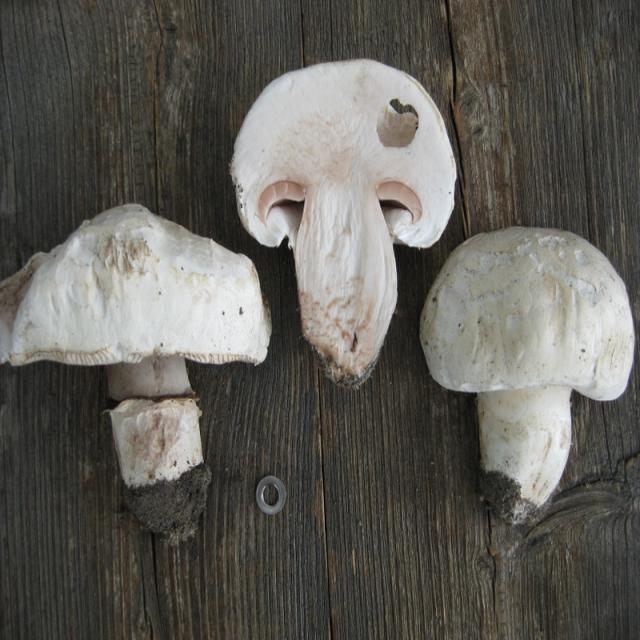Agaricus bisporus: (5, 208, 269, 540), (230, 58, 457, 381), (423, 229, 638, 530)
